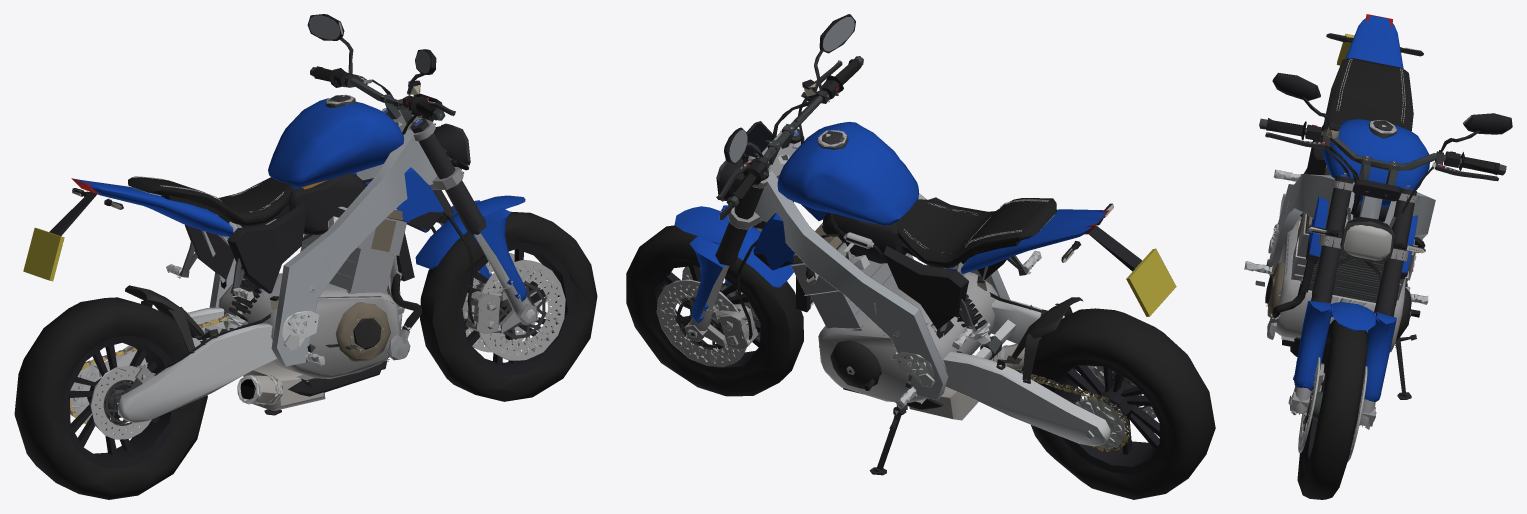
File: SM_Prop_house_bike_0.glb
3 views of the same model, side by side, from view 1: azimuth 30°, elevation 25°; view 2: azimuth 150°, elevation 25°; view 3: azimuth 270°, elevation 25° (orthographic). The views are drawn at different scales.
Parts seen in each view (by area): view 1: SM_Prop_house_bike_0; view 2: SM_Prop_house_bike_0; view 3: SM_Prop_house_bike_0.
Part boxes in pixels (x1,y1,x2,y2): SM_Prop_house_bike_0: (14, 14, 597, 499); SM_Prop_house_bike_0: (626, 14, 1215, 499); SM_Prop_house_bike_0: (1244, 14, 1512, 499).
Bounding box in the file's own units: 2.06 × 1.33 × 0.8712.
